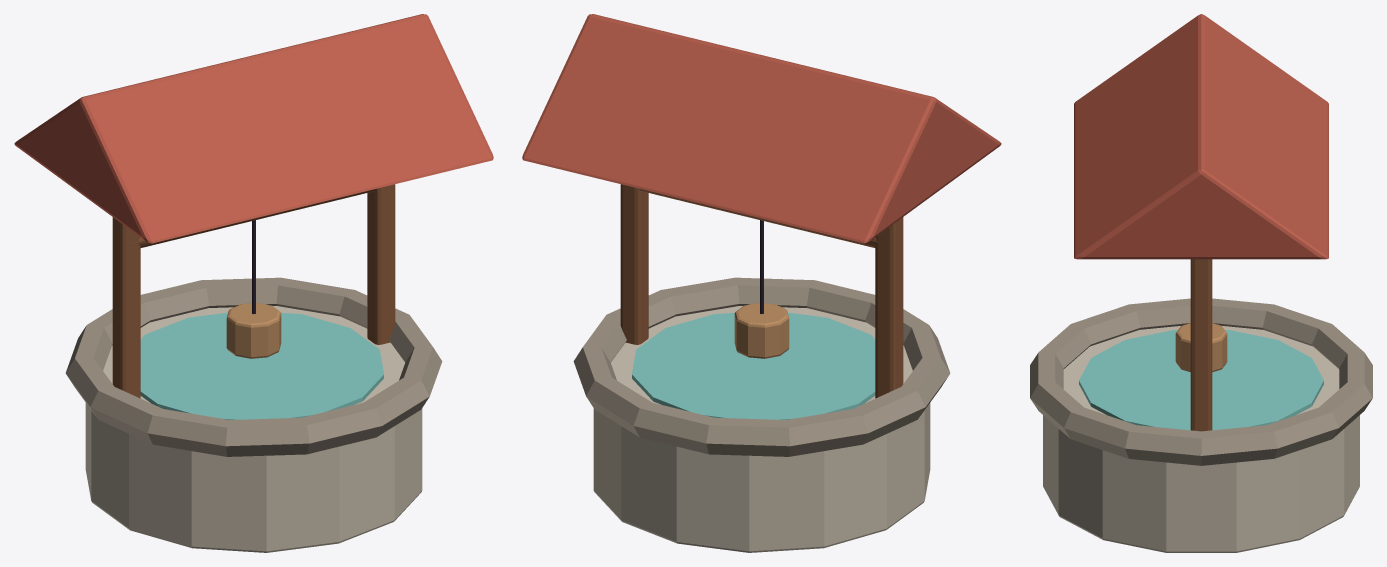
The model's file is well.glb.
3 views of the same model, side by side, from view 1: azimuth 30°, elevation 25°; view 2: azimuth 150°, elevation 25°; view 3: azimuth 270°, elevation 25° (orthographic). The views are drawn at different scales.
Visible parts, largest first — view 1: well; view 2: well; view 3: well.
Part boxes in pixels (x1=…): well: x1=14, y1=14, x2=493, y2=552; well: x1=522, y1=14, x2=1001, y2=552; well: x1=1030, y1=14, x2=1372, y2=552.
Size of the model in its own units: 2.6 by 3.04 by 2.38.
